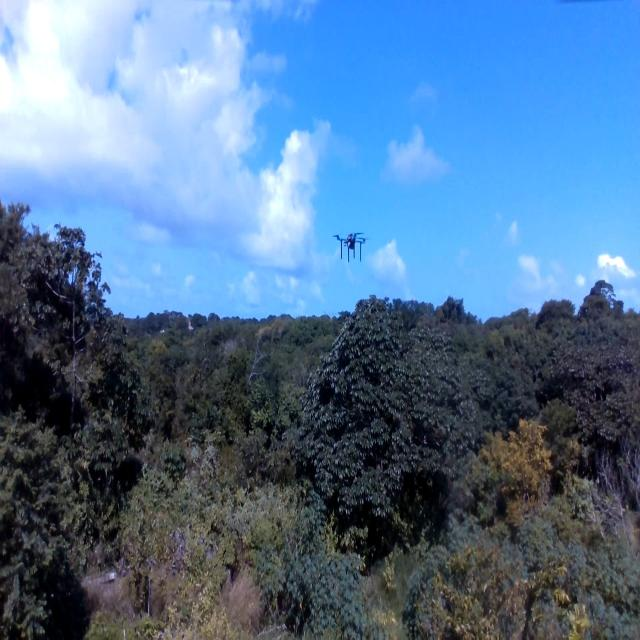-uav-: (328, 209, 367, 275)
